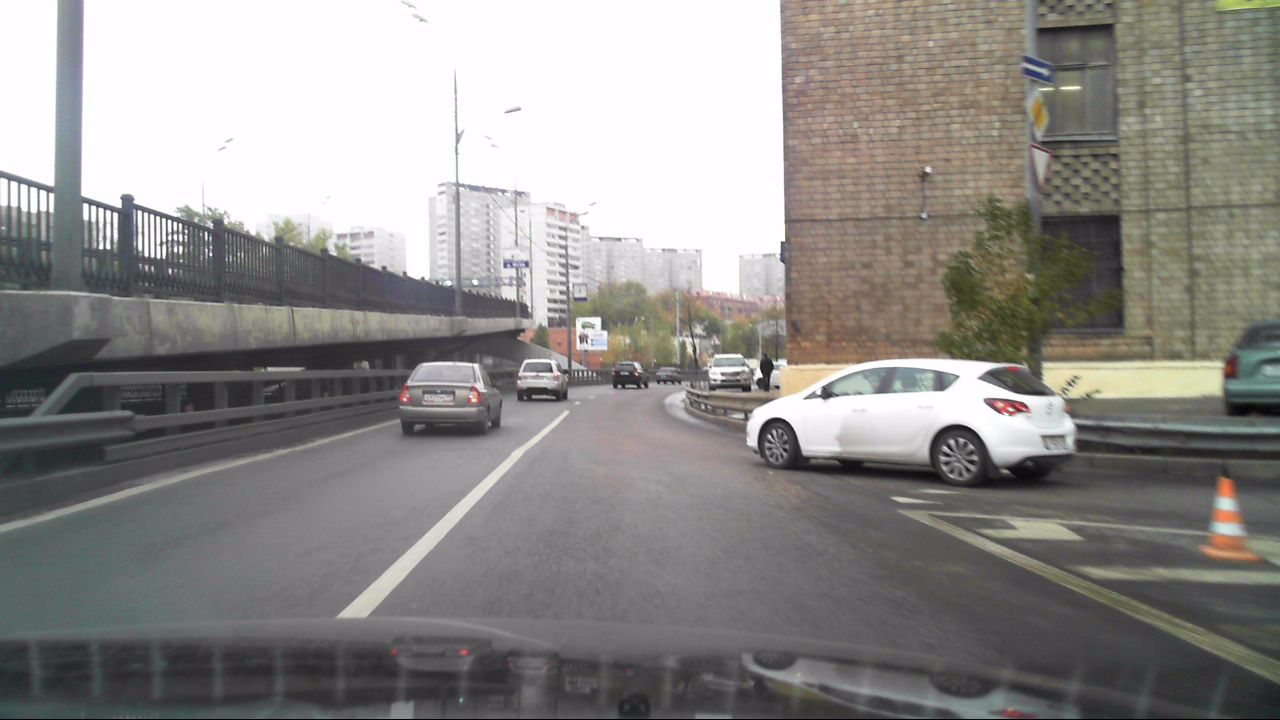main road: (1023, 85, 1057, 139)
